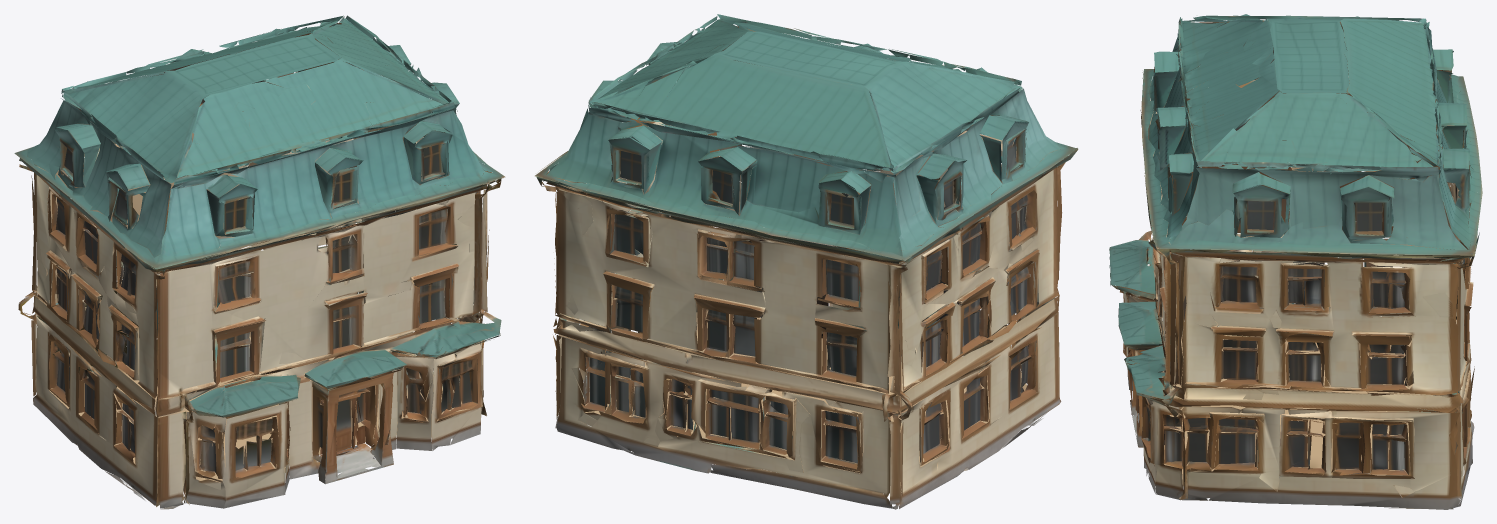
Rendered from unified--detail--winter-manor.glb.
3 renders of one model, left to right at view 1: azimuth 30°, elevation 25°; view 2: azimuth 150°, elevation 25°; view 3: azimuth 270°, elevation 25°, orthographic. The views are drawn at different scales.
Parts seen in each view (by area): view 1: winter-manor-0; view 2: winter-manor-0; view 3: winter-manor-0.
Part boxes in pixels (x1=…): winter-manor-0: x1=14, y1=15, x2=505, y2=509; winter-manor-0: x1=535, y1=14, x2=1078, y2=509; winter-manor-0: x1=1109, y1=14, x2=1482, y2=509.
Bounding box in the file's own units: 0.6032 × 0.5495 × 0.5072.
1 material, 1 textured.
